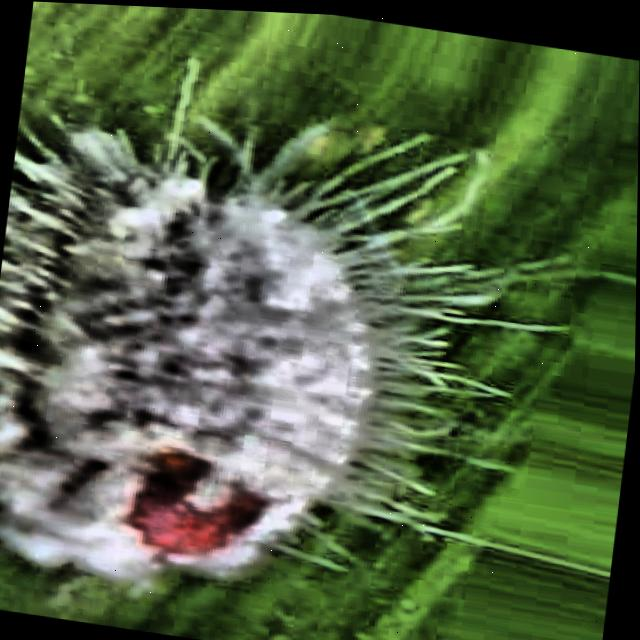Mealy-bug: (0, 85, 547, 640)
